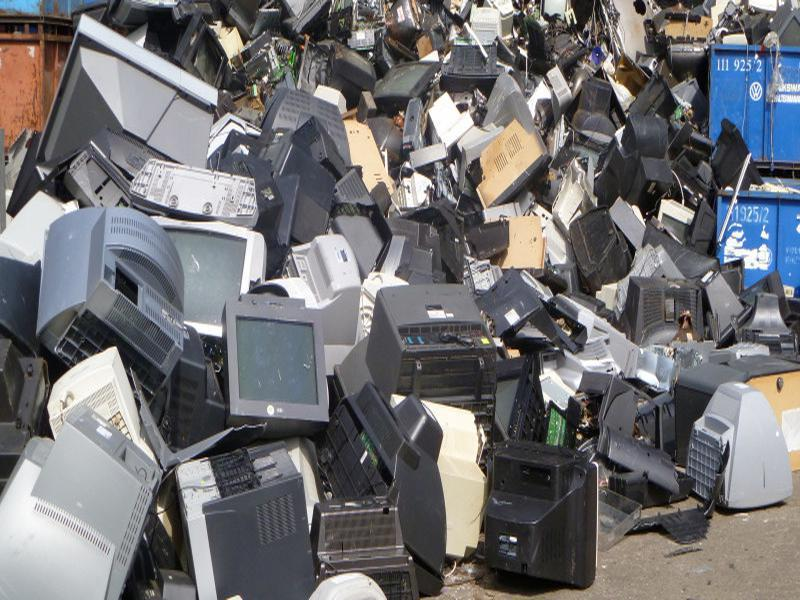tv_pc: (31, 209, 194, 396), (325, 383, 450, 599), (334, 283, 501, 410), (479, 437, 603, 588), (678, 376, 799, 515), (219, 295, 337, 430), (473, 118, 551, 206), (323, 39, 379, 98), (377, 55, 440, 104)
